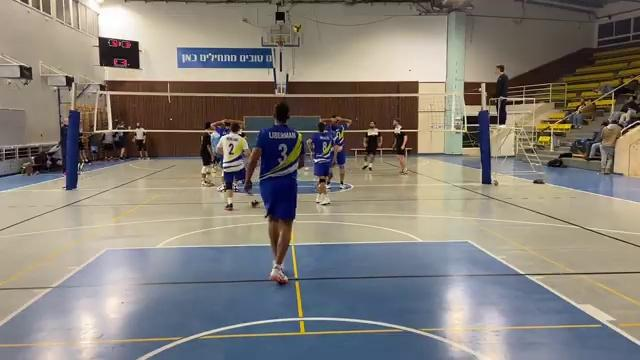ball: (292, 20, 305, 36)
